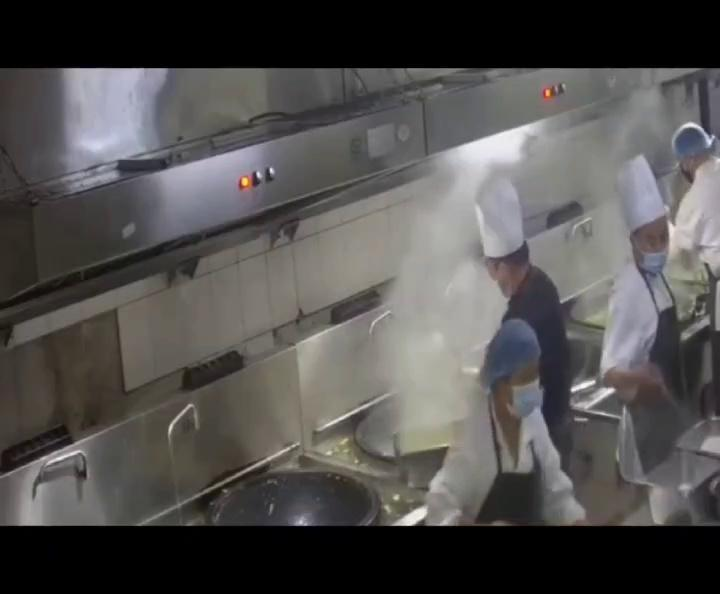mask: (642, 231, 674, 276)
